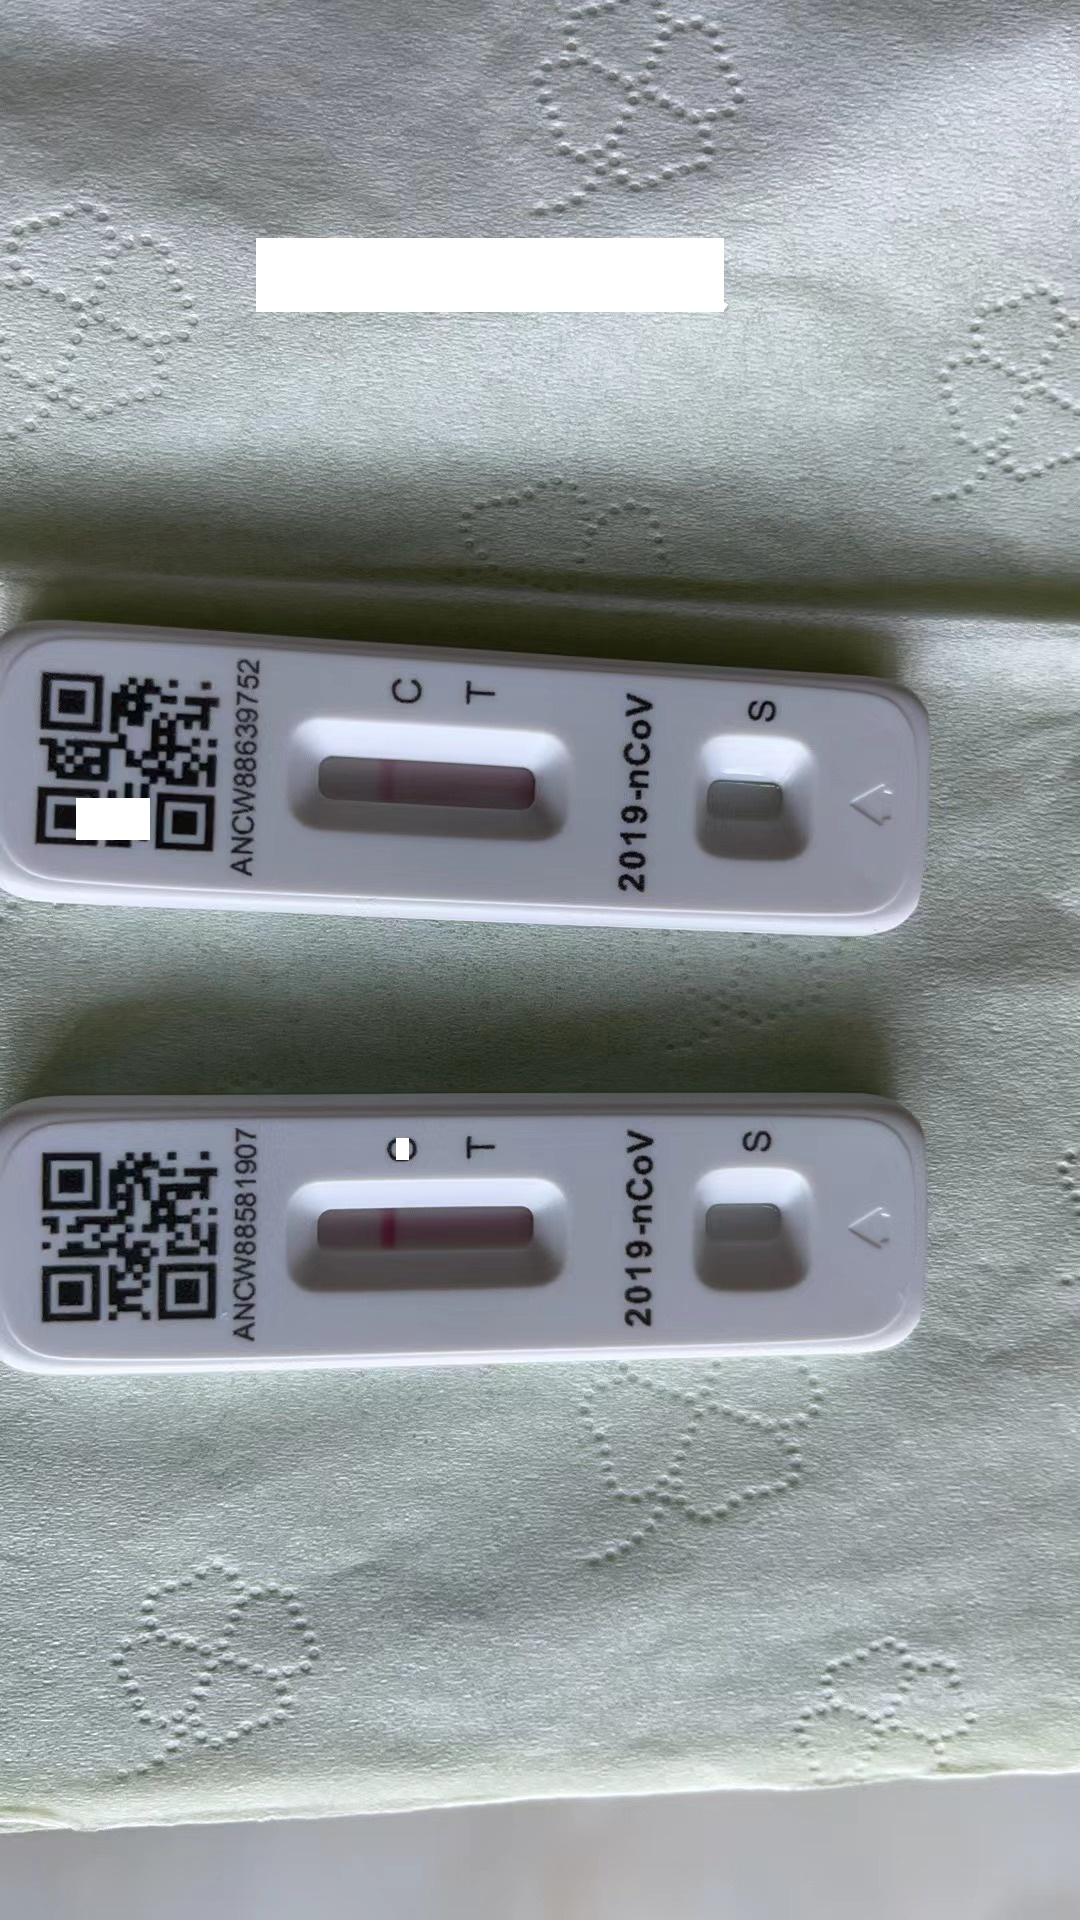negative: (280, 727, 582, 840), (273, 1185, 579, 1294)
